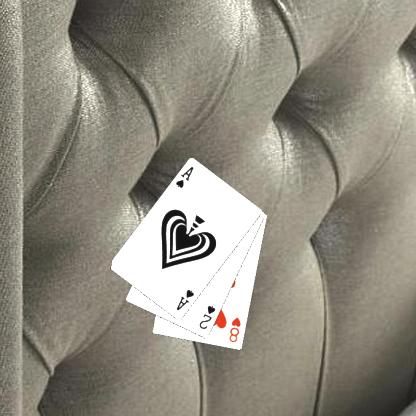2S: (196, 302, 216, 330)
8H: (226, 314, 243, 344)
AS: (173, 286, 196, 312), (173, 164, 195, 190)
